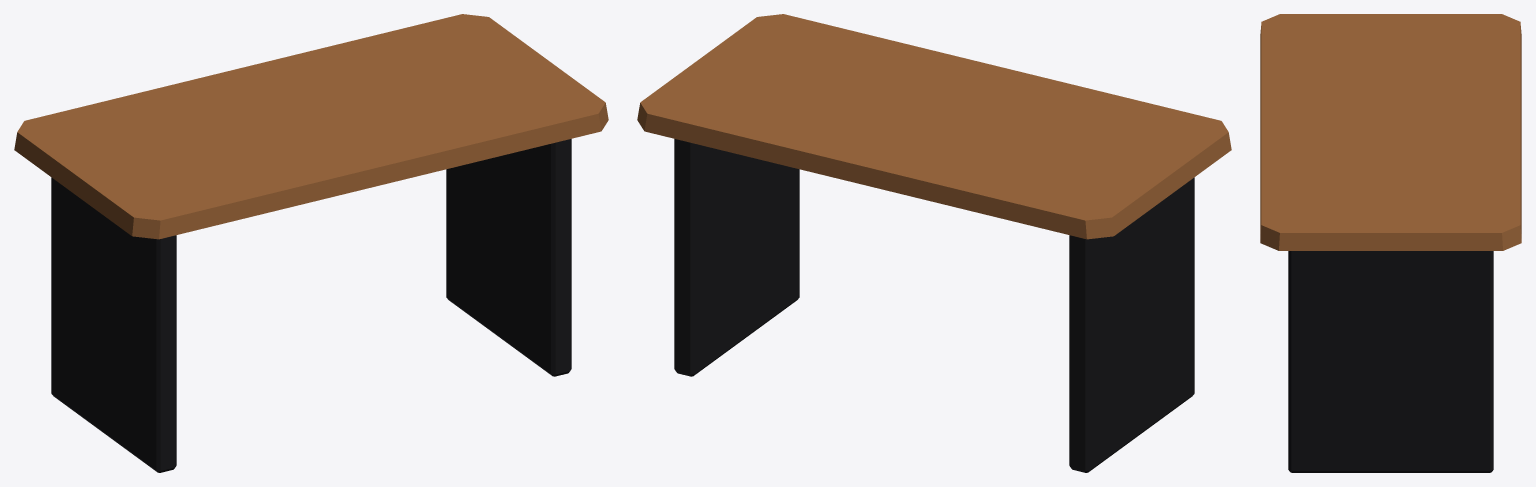
The model's file is table_long.obj.
3 renders of one model, left to right at view 1: azimuth 30°, elevation 25°; view 2: azimuth 150°, elevation 25°; view 3: azimuth 270°, elevation 25°, orthographic. The views are drawn at different scales.
Parts seen in each view (by area): view 1: table_long; view 2: table_long; view 3: table_long.
Boxes of the visible parts, <box> form: table_long: <box>14,14,608,472</box>; table_long: <box>637,14,1231,472</box>; table_long: <box>1260,14,1521,472</box>.
Size of the model in its own units: 1.4 by 0.75 by 0.7.
